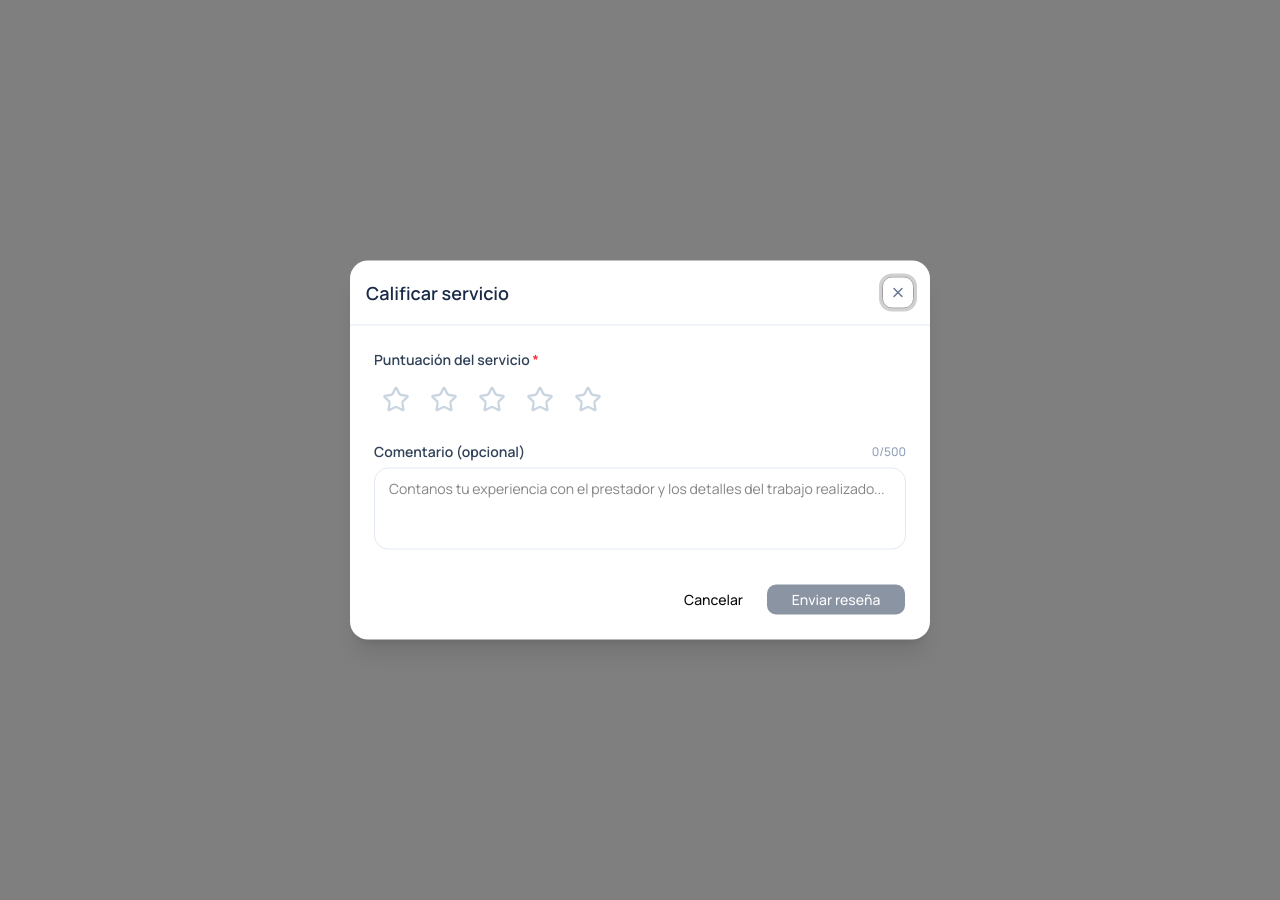
Scenario: ReviewWorkOrderModal › should enable submit button when a star rating is selected
Click the radio button named "5 estrellas".
click(588, 400)  # box [566, 378, 610, 422]
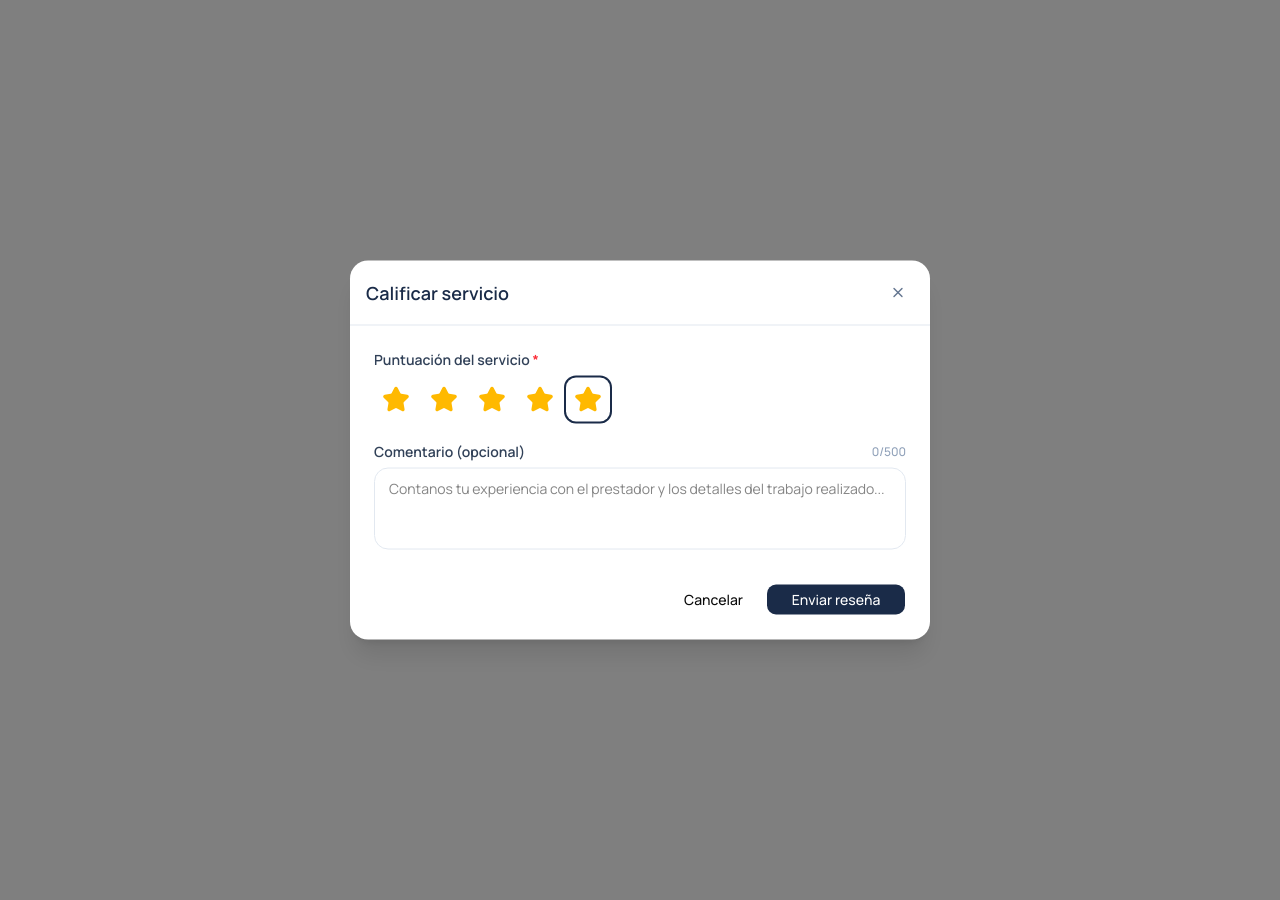
Expected: the button with test id "submit-review-button" is enabled, [766, 584, 906, 616]
